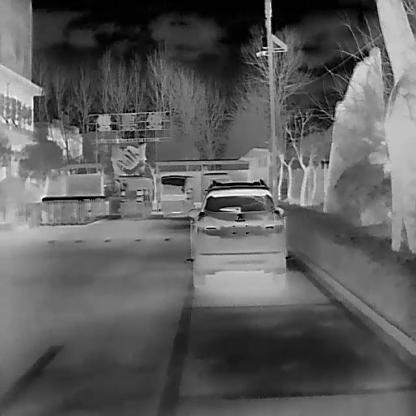car: (187, 177, 289, 285), (115, 173, 153, 218), (158, 173, 194, 216), (199, 171, 228, 200)
